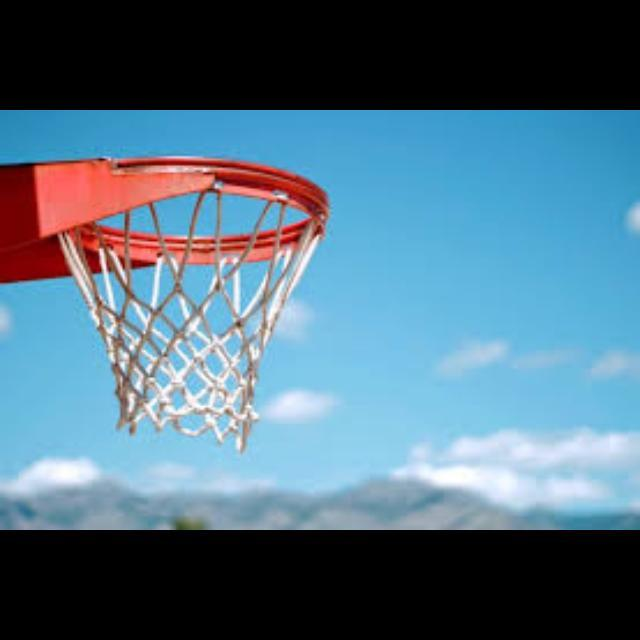rim: (52, 155, 328, 439)
